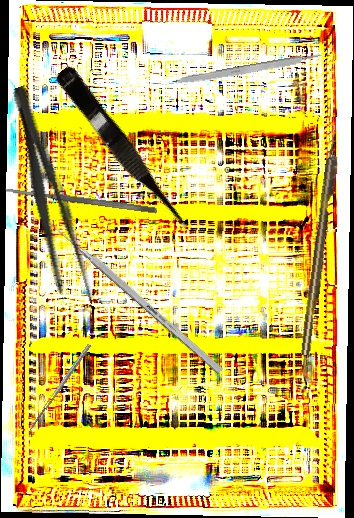Dressing Forceps: (0, 82, 99, 309)
Hook Surgical: (298, 124, 344, 356)
Micro Scissor: (49, 63, 197, 242)
Pusher: (44, 216, 224, 375)
Scalpel Handle: (170, 51, 325, 89)
Spatula Surgical: (25, 343, 95, 438), (3, 185, 158, 215)
